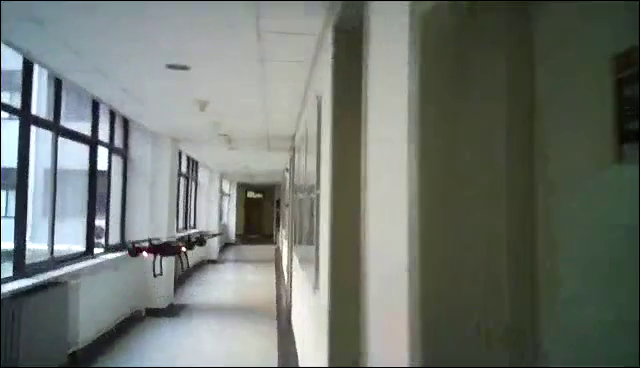drone: (113, 228, 225, 276)
